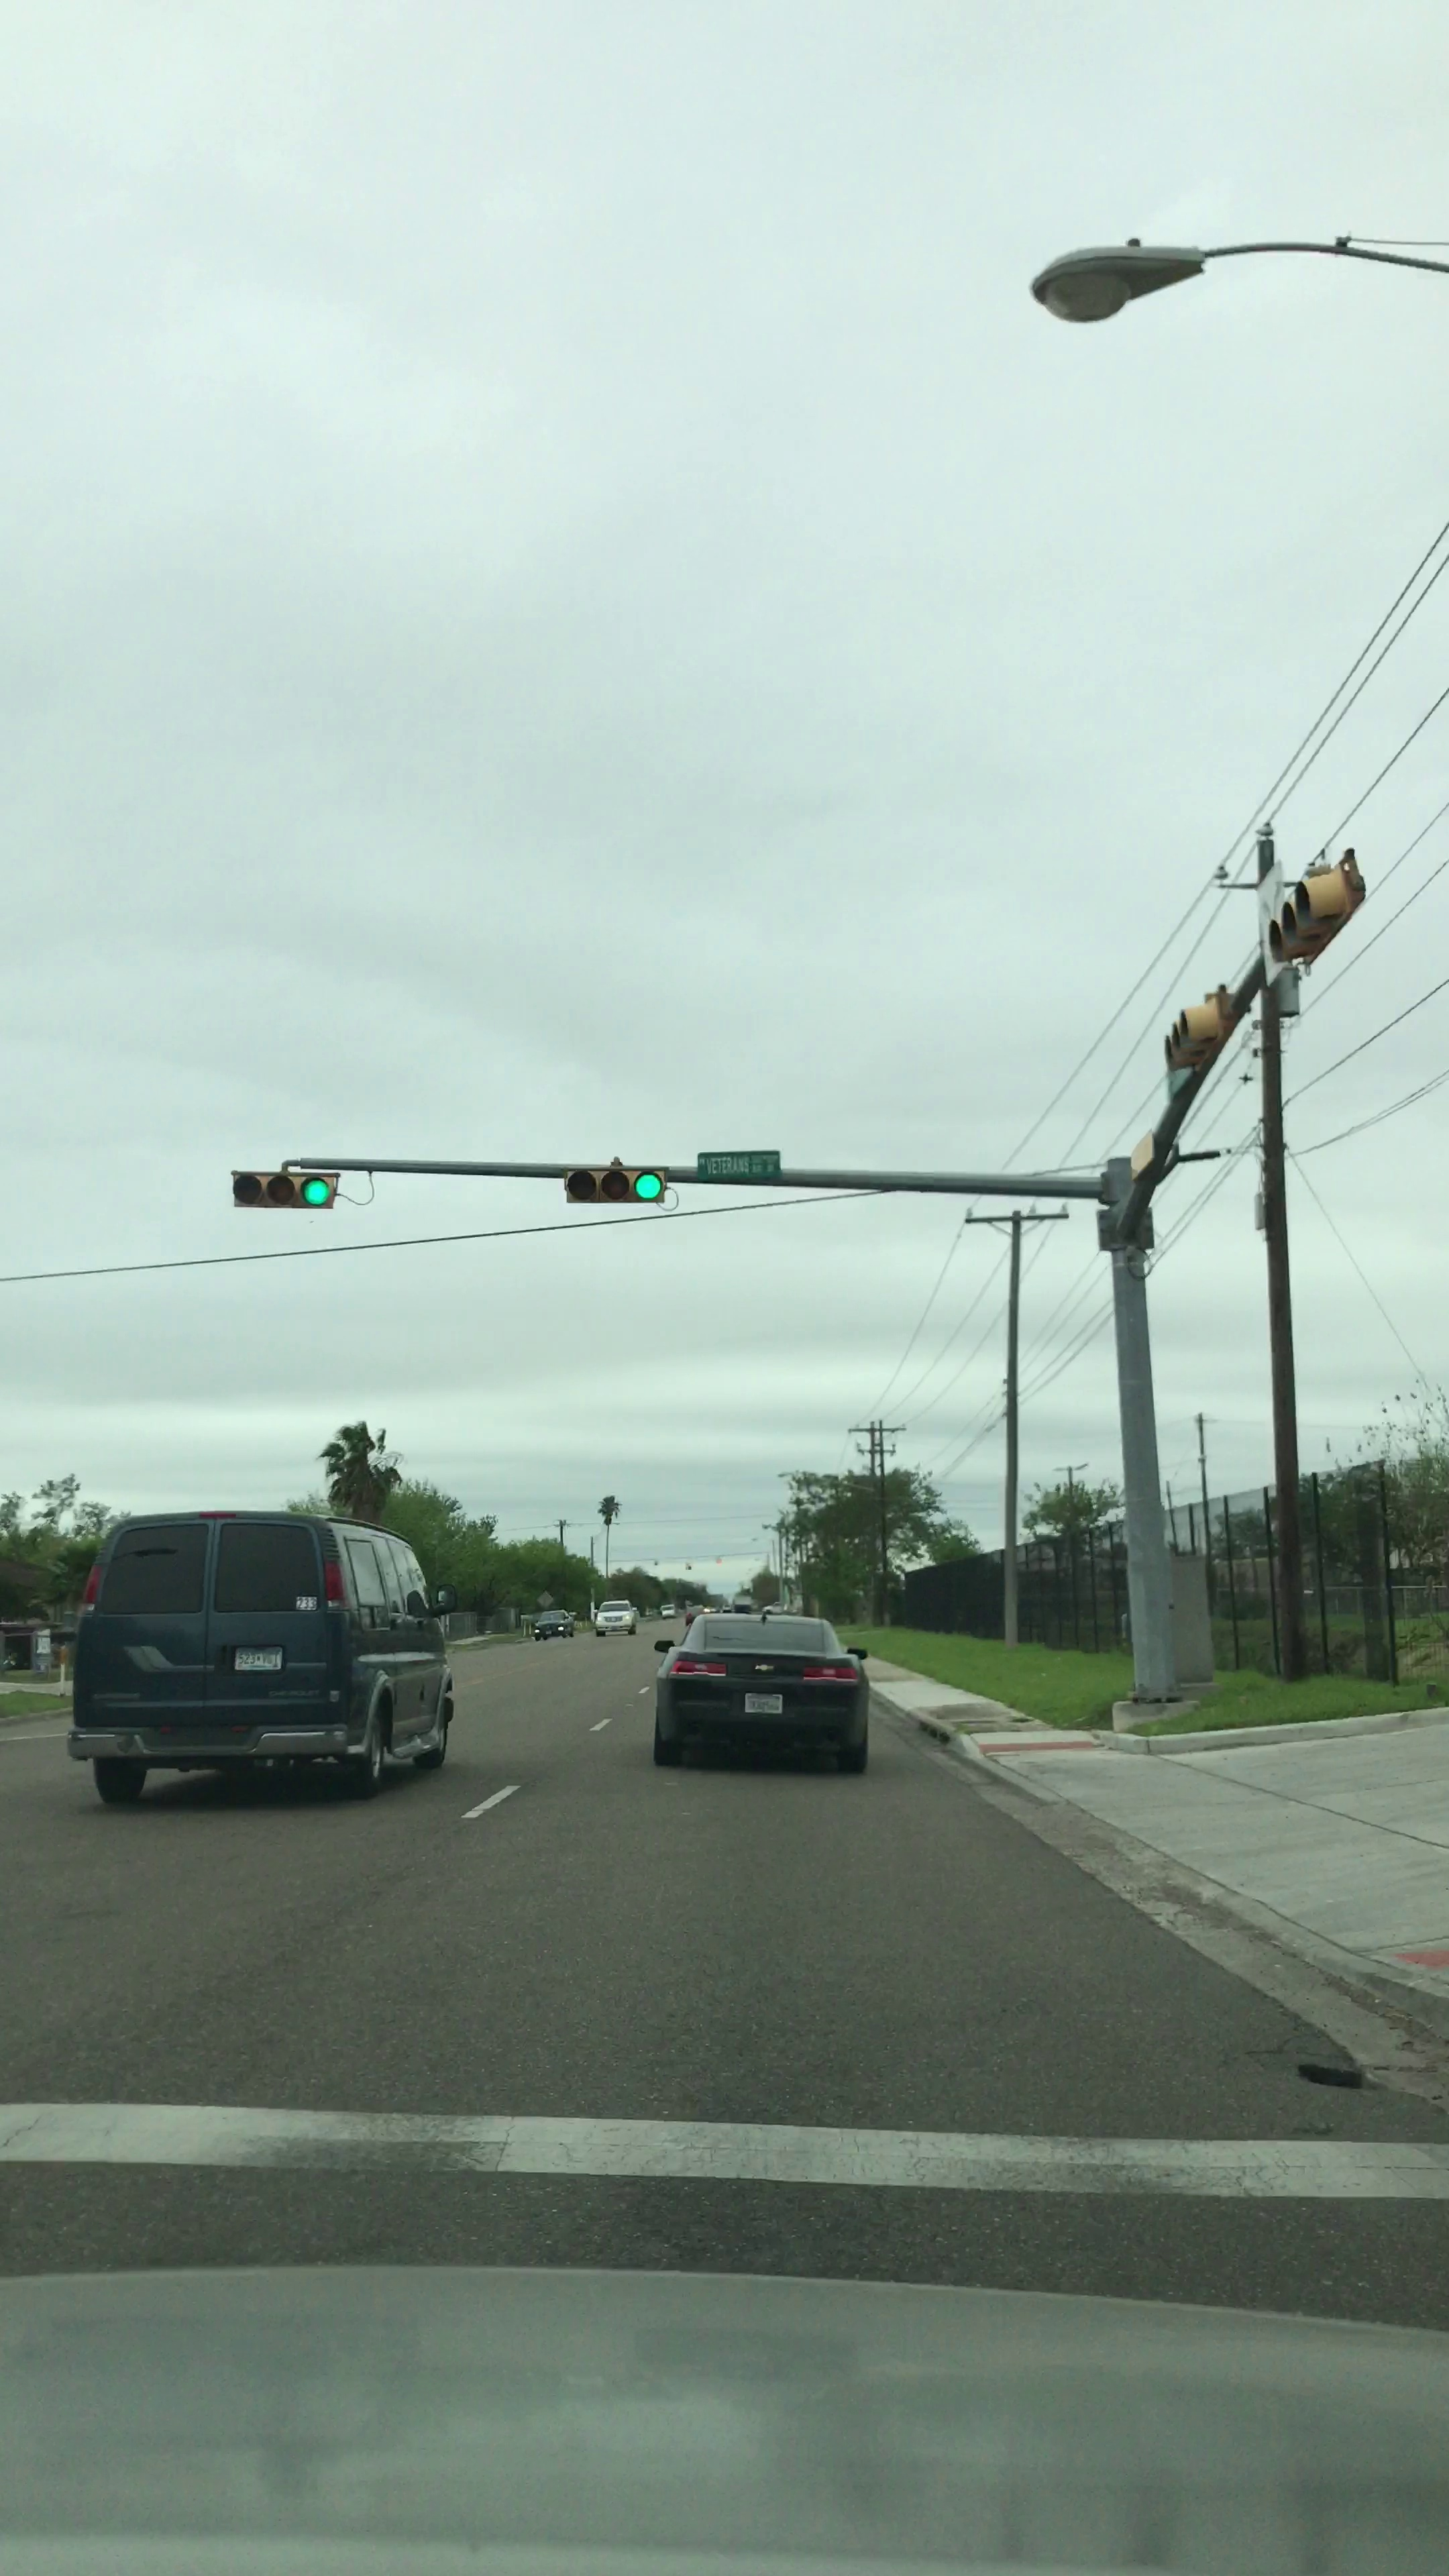blurredLine: (0, 2052, 1405, 2208)
